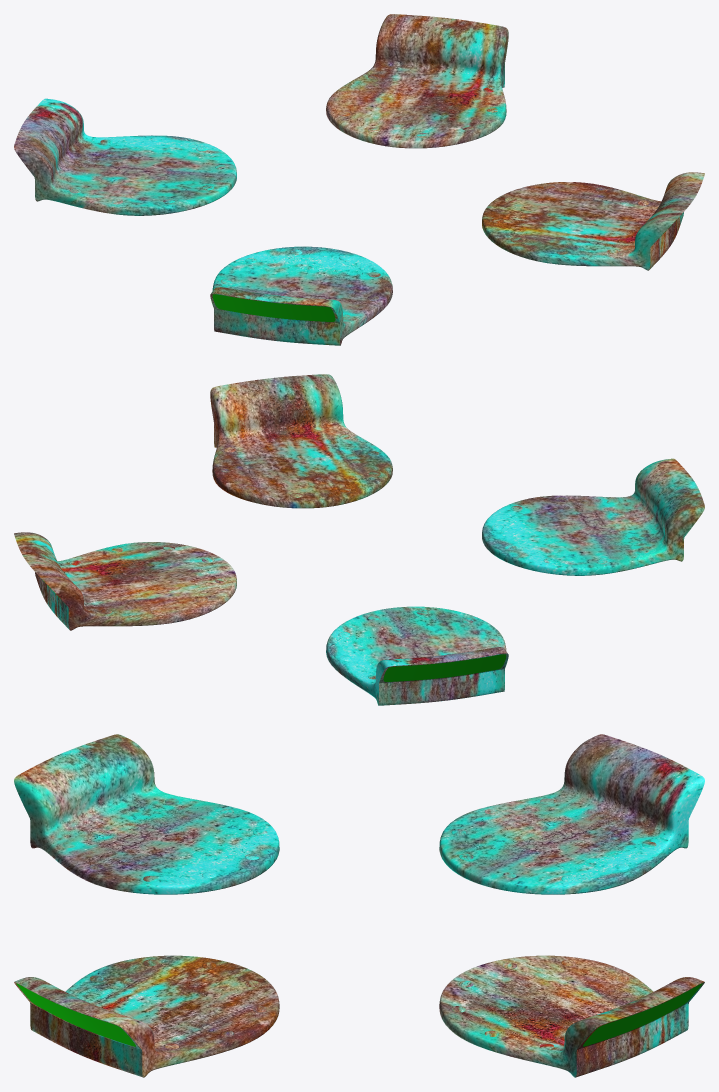
File: NeonGreenLights.fbx
3 views of the same model, one above another, from view 1: azimuth 30°, elevation 25°; view 2: azimuth 150°, elevation 25°; view 3: azimuth 270°, elevation 25° (orthographic). The views are drawn at different scales.
Parts seen in each view (by area): view 1: NeonGreenLights; view 2: NeonGreenLights; view 3: NeonGreenLights.
Boxes of the visible parts, x1,y1,x2,y2 form: NeonGreenLights: (14,14,704,345); NeonGreenLights: (14,374,704,705); NeonGreenLights: (14,734,704,1077).
Size of the model in its own units: 1.13 by 0.1085 by 1.13.
